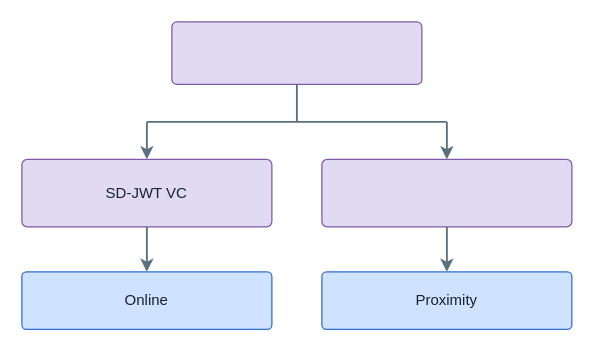
This 594x351 diagram has some shape labels left out. Here are the shapes that lost their labels. From the top down, the box of each, then its label:
(171, 21, 422, 84): Credential key
(321, 158, 572, 227): ISO mdoc
